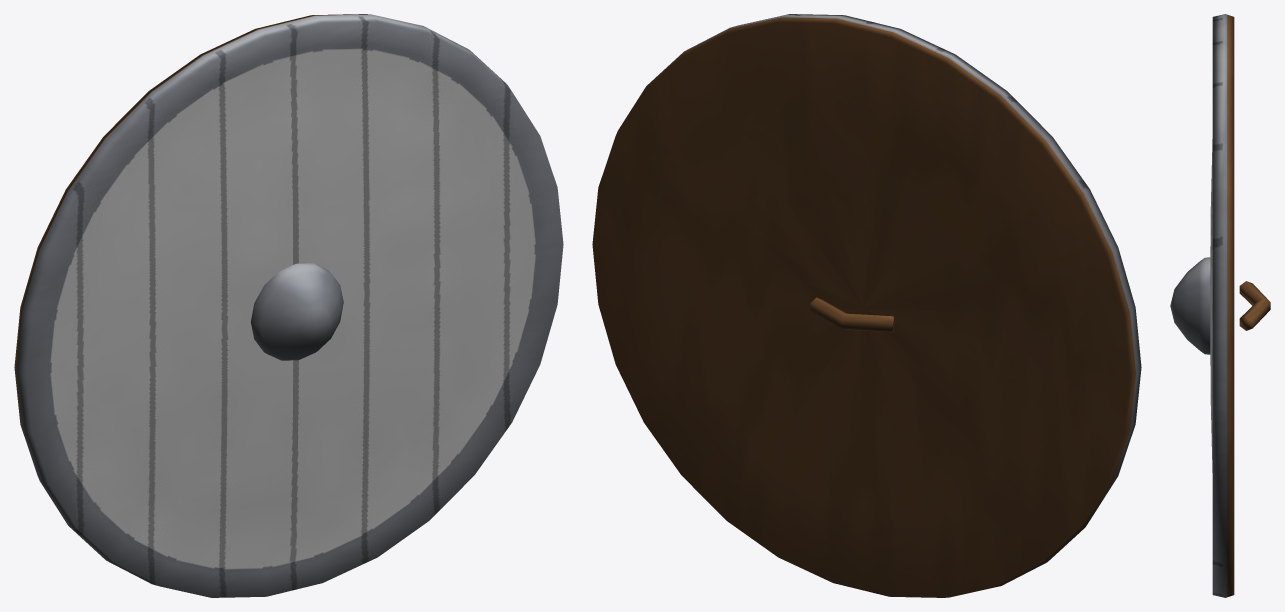
The model's file is bouclier-viking.glb.
3 views of the same model, side by side, from view 1: azimuth 30°, elevation 25°; view 2: azimuth 150°, elevation 25°; view 3: azimuth 270°, elevation 25° (orthographic). The views are drawn at different scales.
Parts seen in each view (by area): view 1: bouclier-viking; view 2: bouclier-viking; view 3: bouclier-viking.
Boxes of the visible parts, bbox=[...] form: bouclier-viking: bbox=[14, 14, 563, 597]; bouclier-viking: bbox=[592, 14, 1141, 597]; bouclier-viking: bbox=[1170, 14, 1270, 597].
Size of the model in its own units: 0.8484 by 0.8438 by 0.1454.
1 material, 1 textured.
